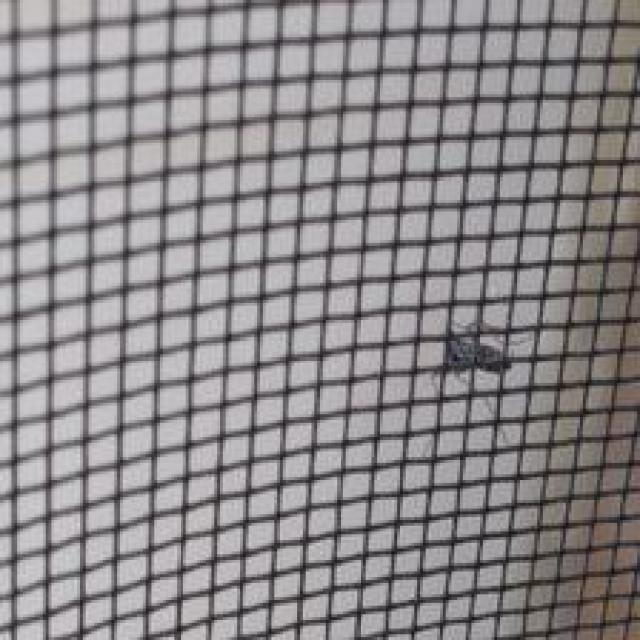Aedes albopictus: (440, 318, 514, 378)
